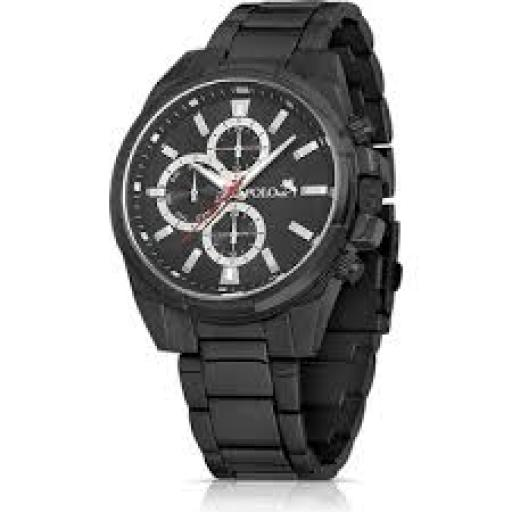KolSaati: (86, 1, 443, 488)
